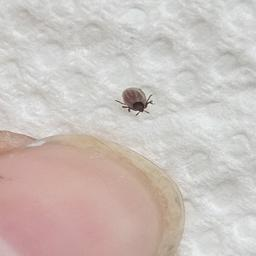Ixodes scapularis: (115, 89, 155, 116)
